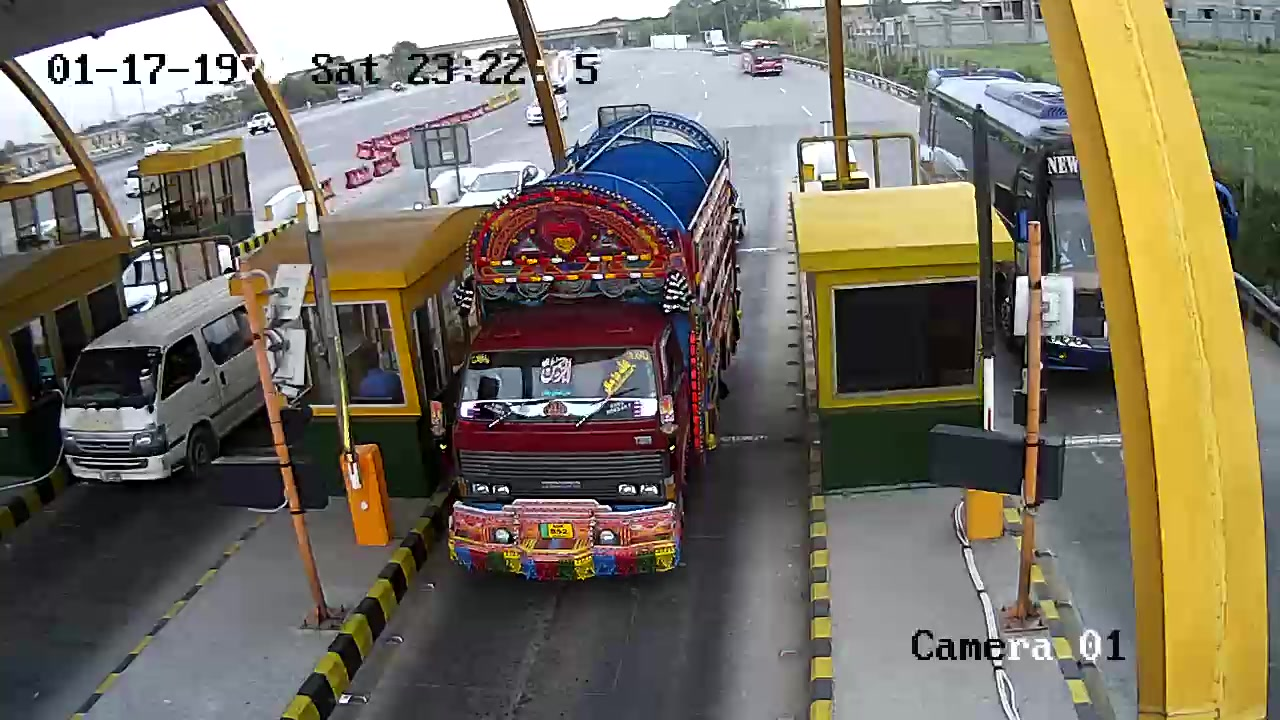F5: (439, 109, 749, 585)
